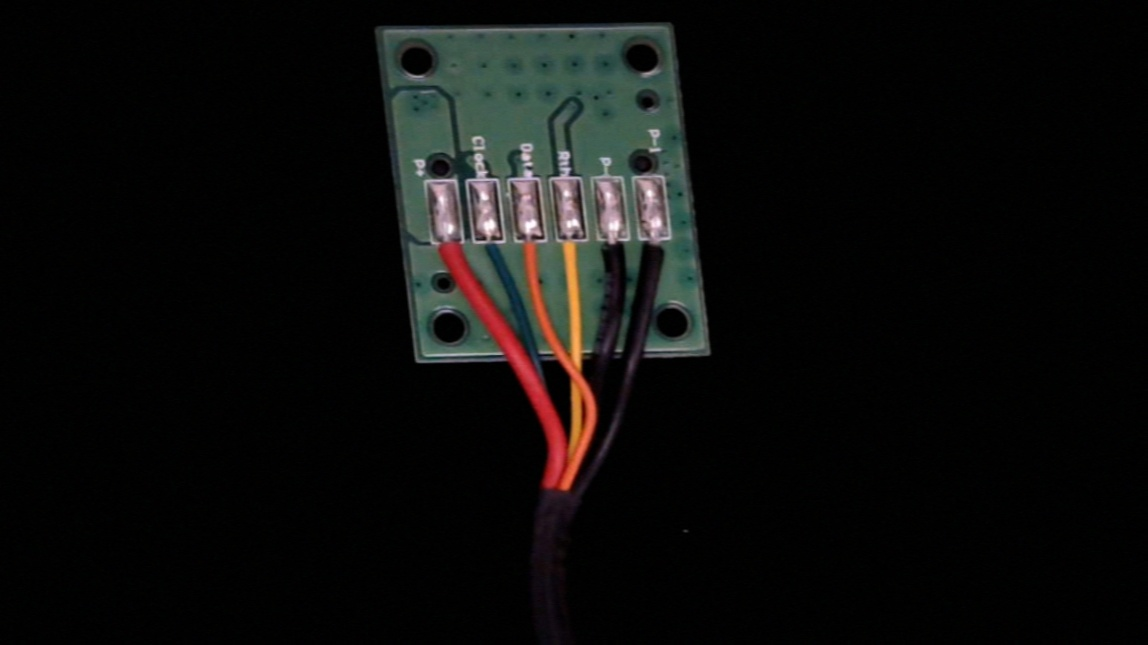Black: (597, 226, 634, 290)
Black1: (640, 227, 675, 291)
Green: (472, 222, 511, 289)
Orange: (515, 226, 552, 291)
Red: (431, 225, 469, 289)
Yellow: (557, 225, 592, 294)
